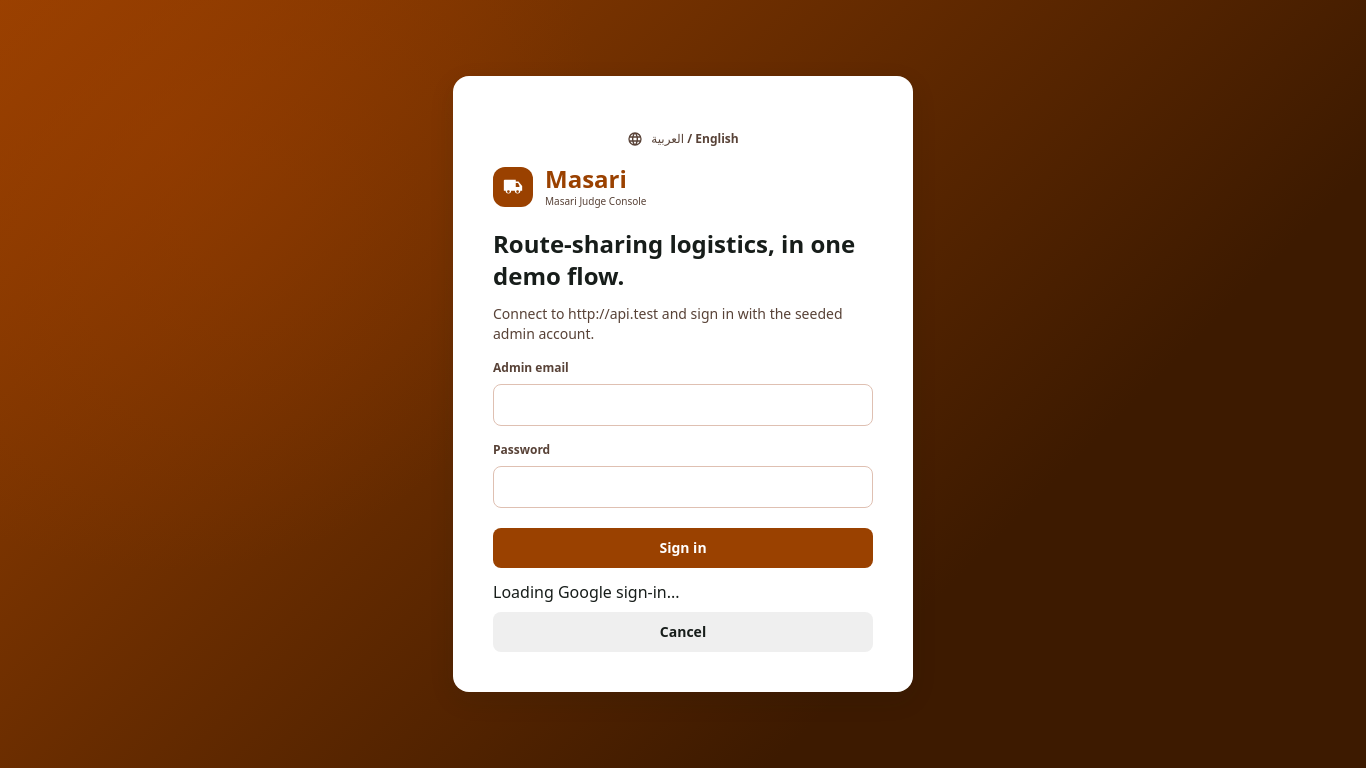
Scenario: Admin login › allows cancellation during SDK loading without starting a session
The image size is (1366, 768).
Step 1. Click the button "Cancel" → (683, 632), box x1=493 y1=612 x2=873 y2=652
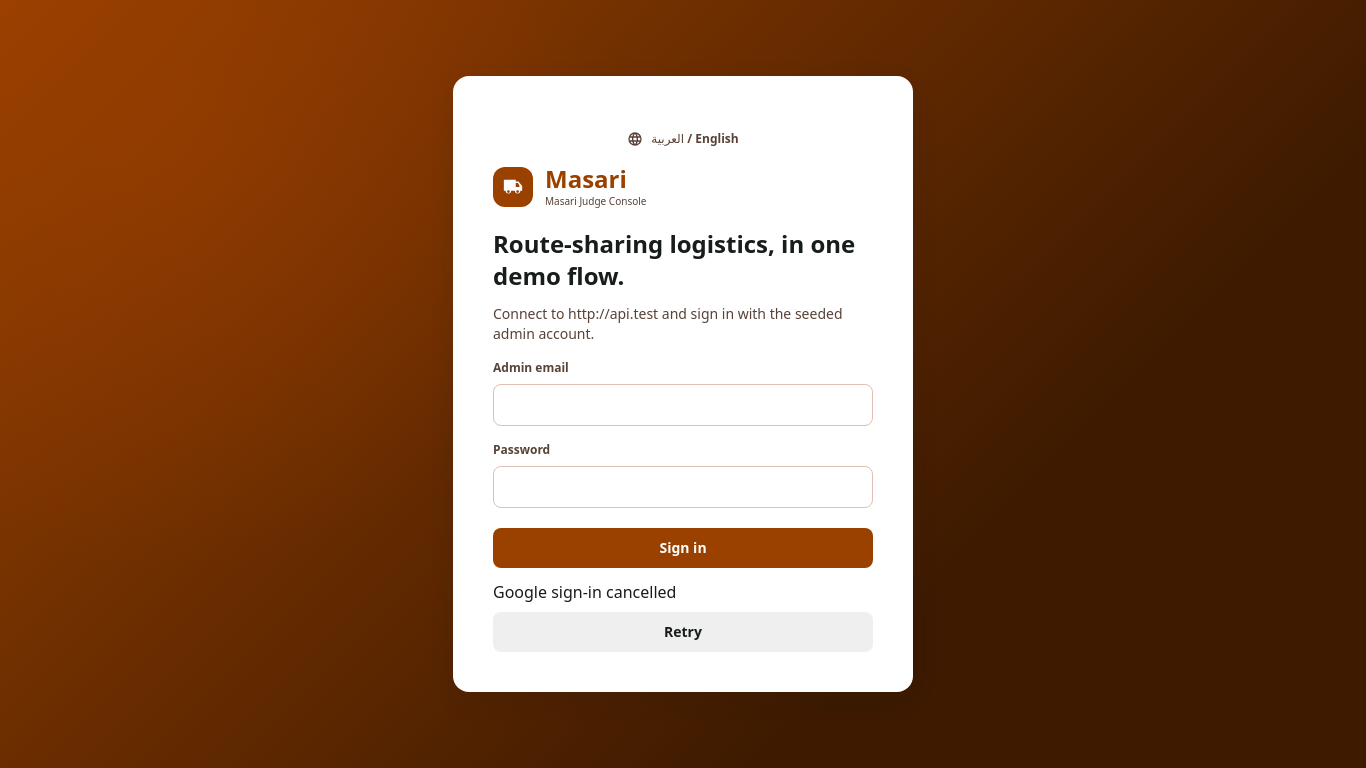
Expected: the field labelled "Admin email" is shown, x1=493 y1=384 x2=873 y2=426
Expected: the text "Google sign-in cancelled" is shown, x1=493 y1=581 x2=676 y2=603
Step 2. Click the button "Retry" → (683, 632), box x1=493 y1=612 x2=873 y2=652
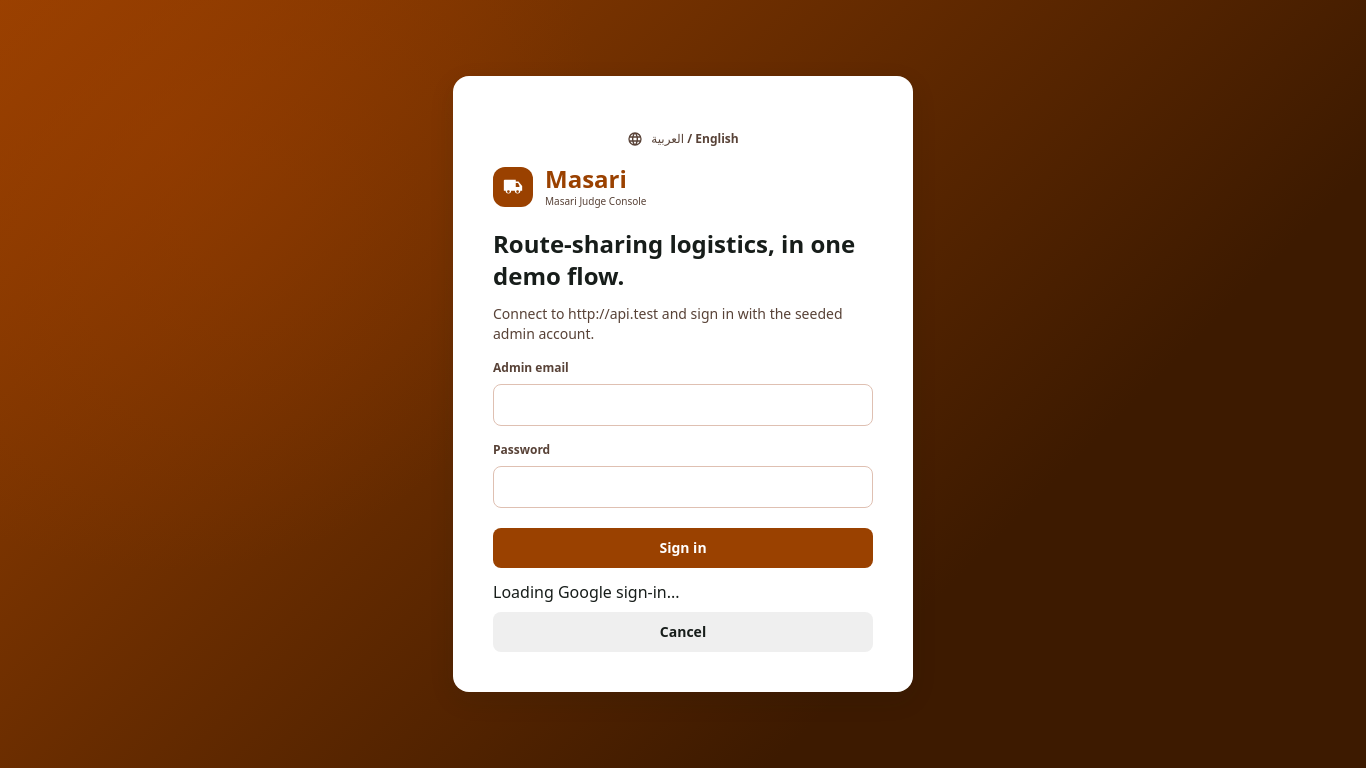
Expected: the text "Loading Google sign-in" is shown, x1=493 y1=581 x2=680 y2=603
